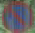No parking: (0, 0, 34, 31)
